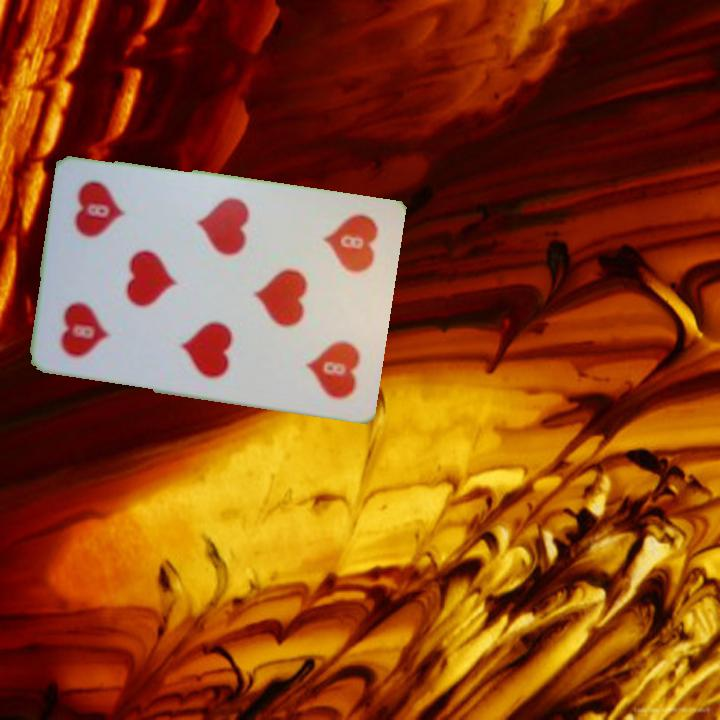h_8.png: (42, 261, 141, 372), (290, 203, 389, 314)
